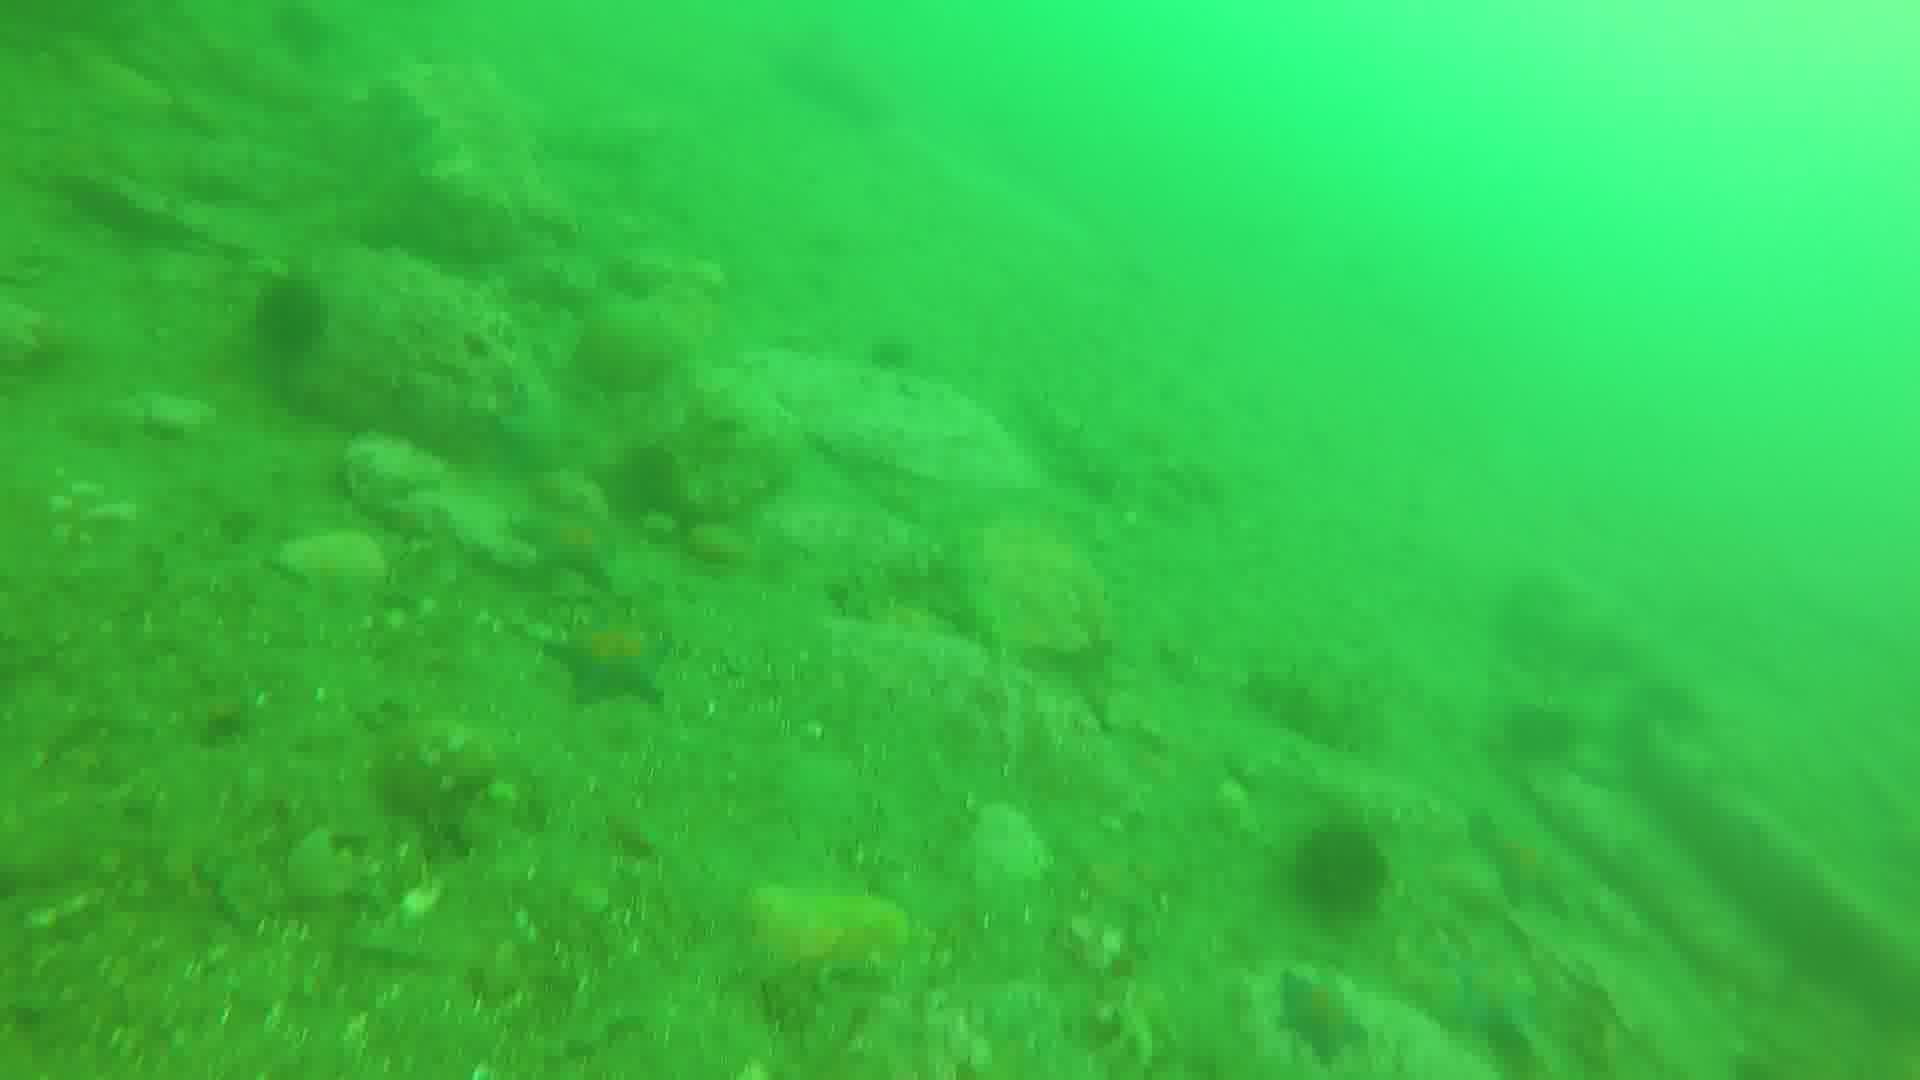echinus: (1296, 820, 1395, 923), (252, 274, 323, 360)
holothurian: (1240, 665, 1387, 756)
starfish: (1476, 815, 1581, 916), (559, 613, 671, 702), (1276, 971, 1371, 1063), (1457, 971, 1553, 1058)
